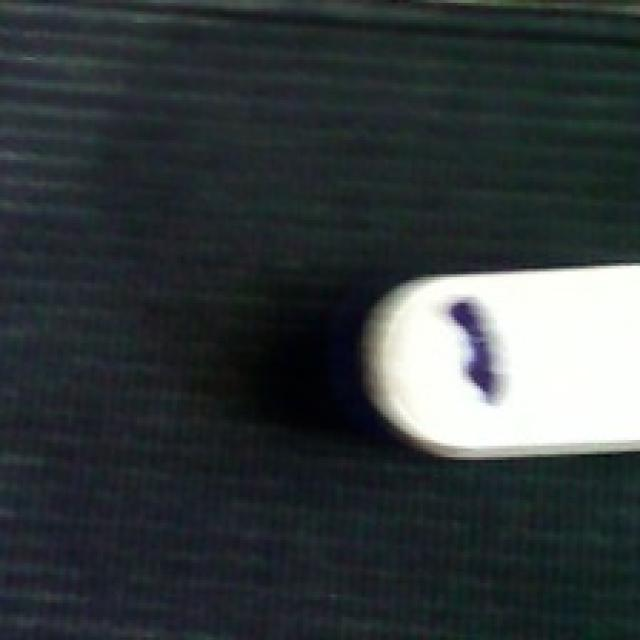defected: (349, 260, 637, 460)
